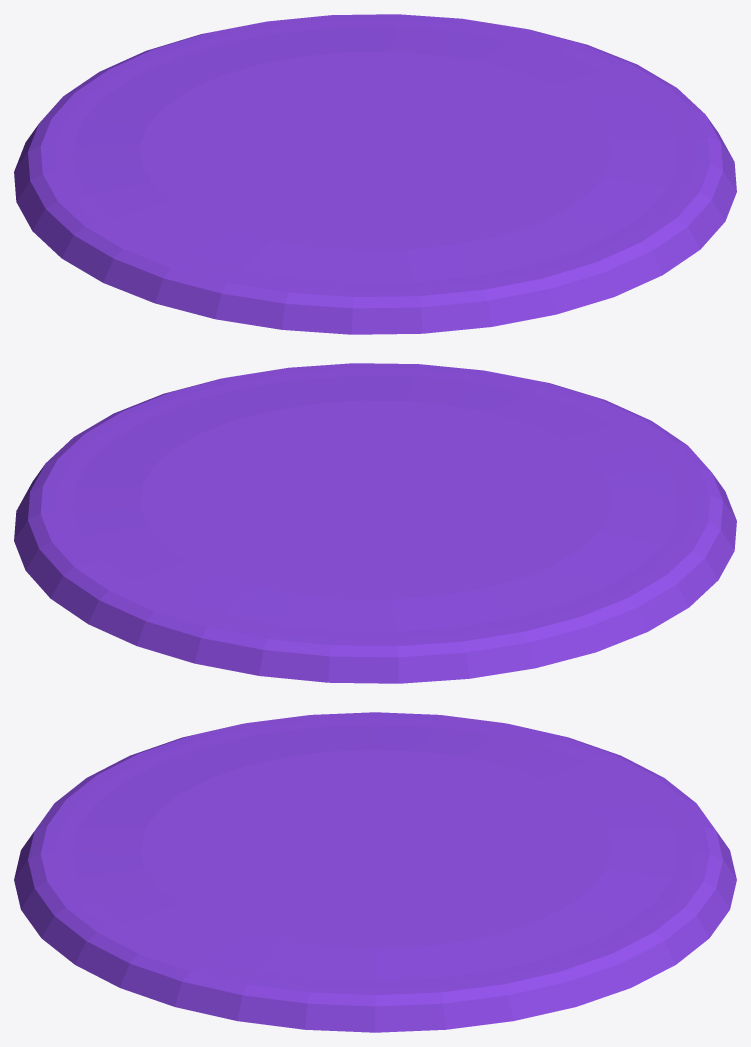
The model's file is Frisbee.fbx.
3 renders of one model, top to bottom at view 1: azimuth 30°, elevation 25°; view 2: azimuth 150°, elevation 25°; view 3: azimuth 270°, elevation 25°, orthographic.
Visible parts, largest first — view 1: Cylinder; view 2: Cylinder; view 3: Cylinder.
Boxes of the visible parts, x1=… form: Cylinder: x1=14, y1=14, x2=736, y2=334; Cylinder: x1=14, y1=363, x2=736, y2=683; Cylinder: x1=14, y1=712, x2=736, y2=1032.
Bounding box in the file's own units: 199 × 9.82 × 199.
